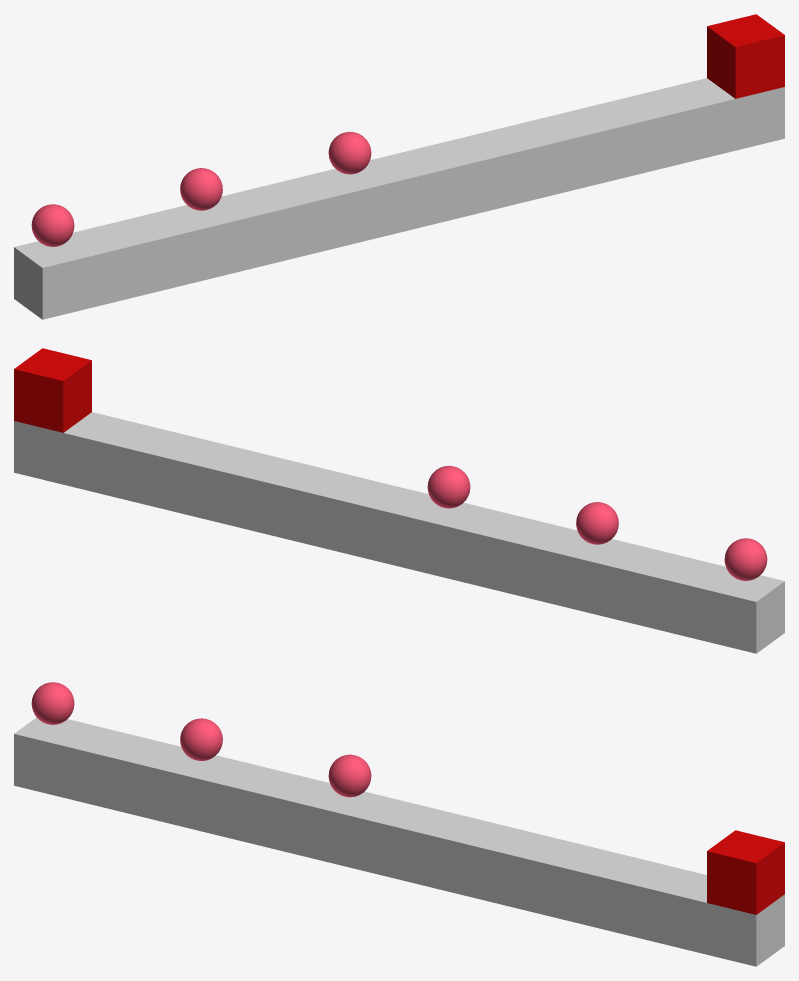
File: stage1.glb
3 views of the same model, one above another, from view 1: azimuth 30°, elevation 25°; view 2: azimuth 150°, elevation 25°; view 3: azimuth 330°, elevation 25° (orthographic).
Visible parts, largest first — view 1: corePart, cube__54_, cube__57_, cube__44_, cube__47_, cube__56_, cube__58_, cube__46_, cube__51_, cube__52_, cube__45_, cube__50_ (+7 smaller); view 2: corePart, cube__54_, cube__57_, cube__44_, cube__47_, cube__56_, cube__58_, cube__46_, cube__51_, cube__52_, cube__45_, cube__50_ (+7 smaller); view 3: corePart, cube__48_, cube__45_, cube__47_, cube__51_, cube__52_, cube__55_, cube__57_, cube__50_, cube__46_, cube__44_, cube__58_ (+7 smaller).
Part boxes in pixels (bbox=[...]): corePart: bbox=[707, 14, 784, 98]; cube__54_: bbox=[14, 239, 91, 319]; cube__57_: bbox=[608, 90, 685, 174]; cube__44_: bbox=[262, 174, 339, 259]; cube__47_: bbox=[460, 126, 537, 210]; cube__56_: bbox=[657, 78, 735, 162]; cube__58_: bbox=[113, 211, 190, 295]; cube__46_: bbox=[410, 138, 487, 222]; cube__51_: bbox=[509, 114, 586, 198]; cube__52_: bbox=[559, 102, 636, 186]; cube__45_: bbox=[366, 150, 438, 235]; cube__50_: bbox=[218, 186, 289, 271]; corePart: bbox=[14, 348, 91, 432]; cube__54_: bbox=[707, 573, 784, 653]; cube__57_: bbox=[113, 424, 190, 508]; cube__44_: bbox=[459, 508, 536, 593]; cube__47_: bbox=[261, 460, 338, 544]; cube__56_: bbox=[63, 412, 141, 496]; cube__58_: bbox=[608, 545, 685, 629]; cube__46_: bbox=[311, 472, 388, 556]; cube__51_: bbox=[212, 448, 289, 532]; cube__52_: bbox=[162, 436, 239, 520]; cube__45_: bbox=[360, 484, 432, 569]; cube__50_: bbox=[509, 520, 580, 605]; corePart: bbox=[707, 830, 784, 914]; cube__48_: bbox=[707, 894, 784, 966]; cube__45_: bbox=[360, 797, 438, 882]; cube__47_: bbox=[459, 821, 536, 906]; cube__51_: bbox=[509, 833, 586, 918]; cube__52_: bbox=[558, 846, 635, 930]; cube__55_: bbox=[63, 725, 141, 809]; cube__57_: bbox=[608, 858, 685, 942]; cube__50_: bbox=[212, 761, 289, 845]; cube__46_: bbox=[410, 809, 487, 893]; cube__44_: bbox=[261, 773, 333, 857]; cube__58_: bbox=[113, 737, 184, 821].
Bounding box in the file's own units: 15 × 2 × 1.
